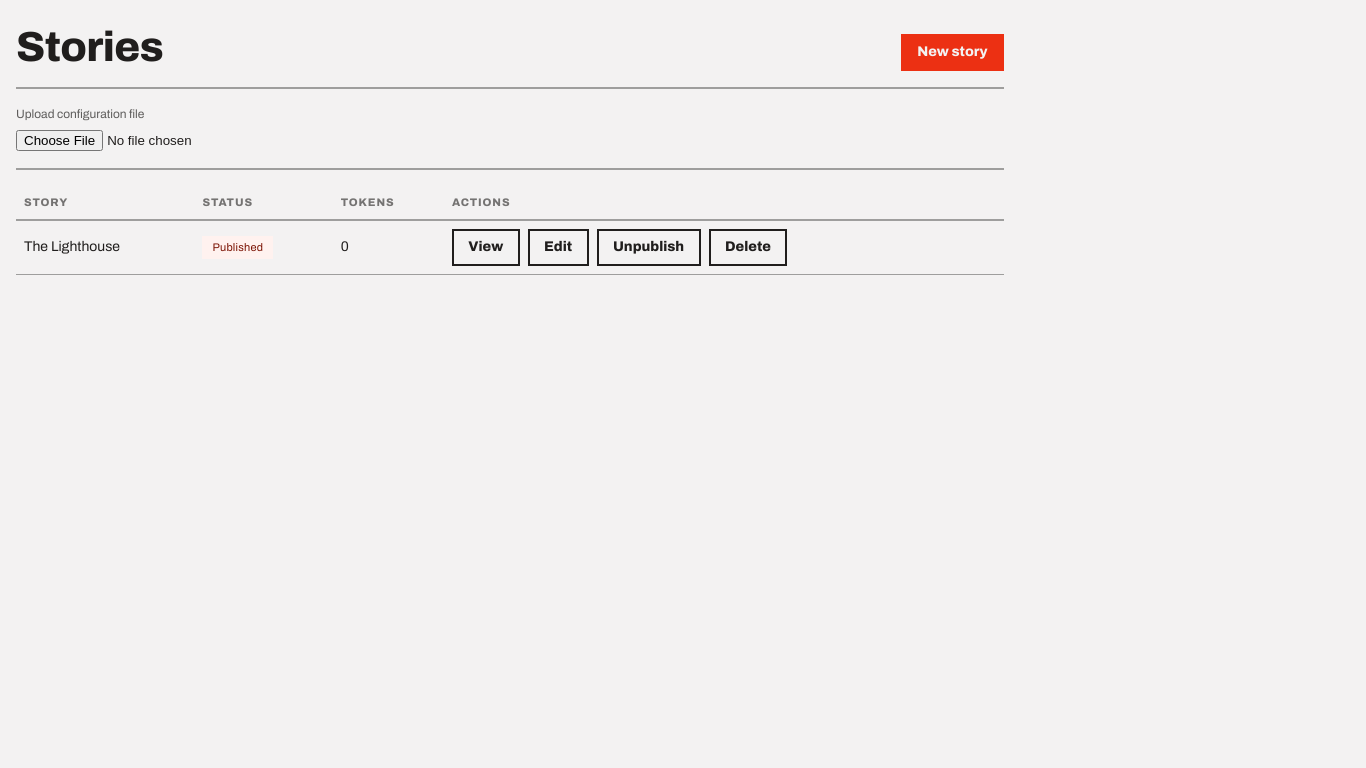
Test: Admin stories list publish/unpublish (FR-007, FR-010, FR-011, FR-013, FR-014, FR-016) › canceling the confirmation changes nothing
Click the button "Unpublish": (649, 247) [596,229,701,266]
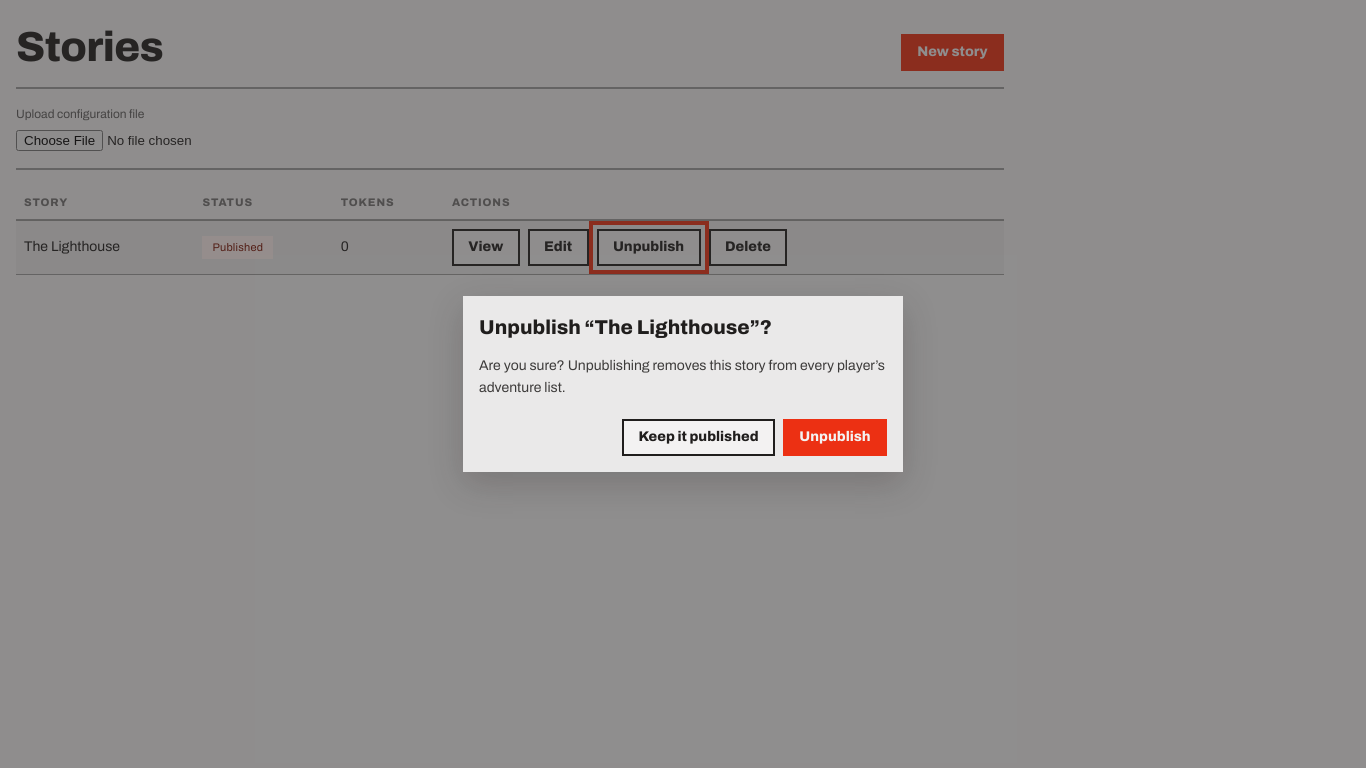
Click the button "Keep it published": (698, 437) [622,419,775,456]
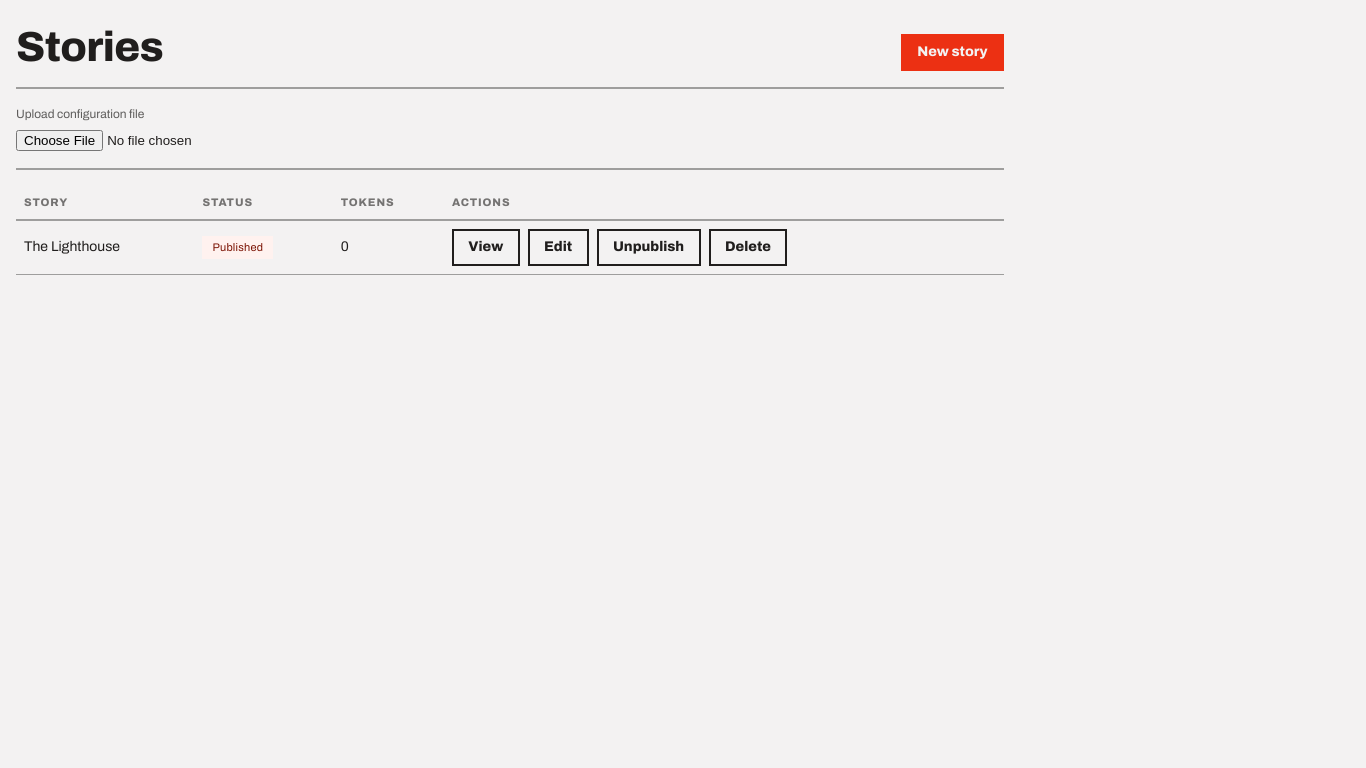
Expected: the text with class "tag" reads "Published", [212,241,263,253]
Expected: the dialog is gone
